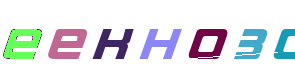0: (124, 0, 204, 80), (214, 0, 294, 80)
3: (159, 0, 239, 80)
E: (0, 0, 80, 80), (34, 0, 114, 80)
H: (108, 0, 188, 80)
K: (73, 0, 153, 80)
